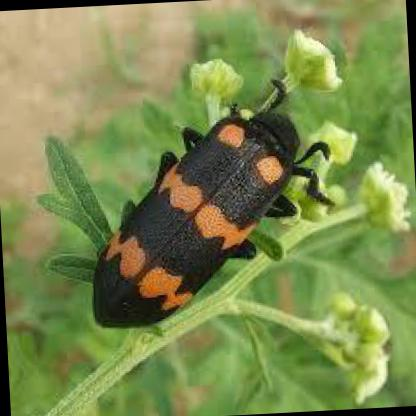blister beetle: (89, 79, 330, 332)
